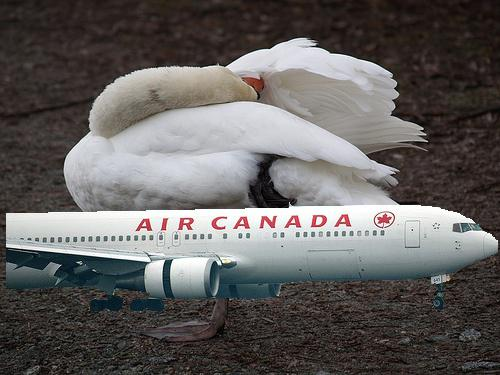tampered: (7, 203, 498, 311)
